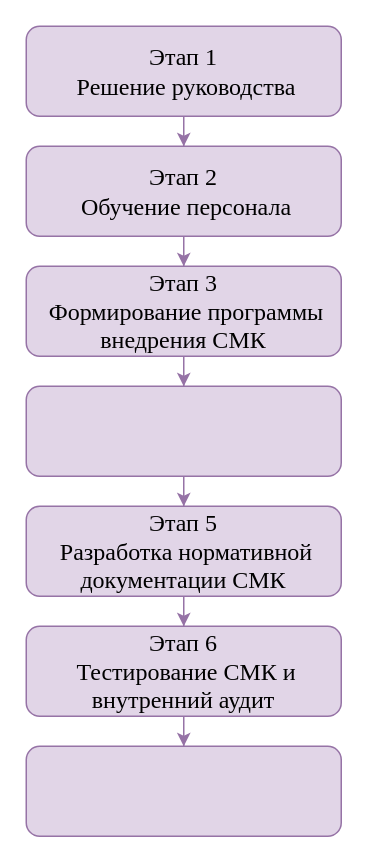
Some shapes in this 368 by 863 pixel diagram are drawn without their labels. Here are the shapes that lost their labels. From the top down, the centre of each, then its label:
(183,430): Этап 4 Описание и оптимизация бизнес-процессов
(183,790): Этап 7 Получение сертификата
